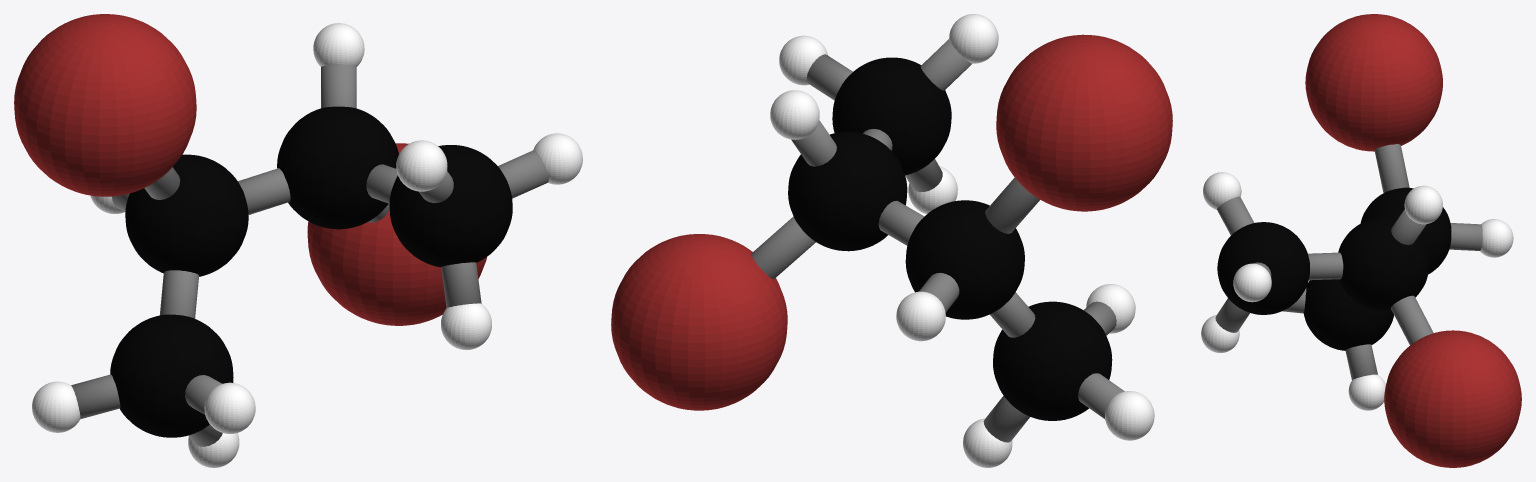
The model's file is DIBROMOBUTANO.obj.
3 views of the same model, side by side, from view 1: azimuth 30°, elevation 25°; view 2: azimuth 150°, elevation 25°; view 3: azimuth 270°, elevation 25° (orthographic). The views are drawn at different scales.
Parts seen in each view (by area): view 1: Carbon_ball_Sphere.001, Bromine_ball_Sphere.002, Hydrogen_ball_Sphere, Stick_Cylinder.010_Cylinder.010, Stick_Cylinder.004_Cylinder.004, Stick_Cylinder.001_Cylinder.001, Stick_Cylinder.012_Cylinder.012, Stick_Cylinder.005_Cylinder.005, Stick_Cylinder.002_Cylinder.002, Stick_Cylinder.003_Cylinder.003, Stick_Cylinder.007_Cylinder.007, Stick_Cylinder.009_Cylinder.009; view 2: Bromine_ball_Sphere.002, Carbon_ball_Sphere.001, Hydrogen_ball_Sphere, Stick_Cylinder.011_Cylinder.011, Stick_Cylinder.009_Cylinder.009, Stick_Cylinder_Cylinder, Stick_Cylinder.002_Cylinder.002, Stick_Cylinder.006_Cylinder.006, Stick_Cylinder.010_Cylinder.010, Stick_Cylinder.004_Cylinder.004, Stick_Cylinder.005_Cylinder.005, Stick_Cylinder.012_Cylinder.012 (+3 smaller); view 3: Bromine_ball_Sphere.002, Carbon_ball_Sphere.001, Hydrogen_ball_Sphere, Stick_Cylinder.009_Cylinder.009, Stick_Cylinder.011_Cylinder.011, Stick_Cylinder.003_Cylinder.003, Stick_Cylinder.008_Cylinder.008, Stick_Cylinder.006_Cylinder.006, Stick_Cylinder_Cylinder, Stick_Cylinder.001_Cylinder.001, Stick_Cylinder.012_Cylinder.012.
Part boxes in pixels (x1,y1,x2,y2): Carbon_ball_Sphere.001: (110,106,512,437); Bromine_ball_Sphere.002: (14,14,486,325); Hydrogen_ball_Sphere: (32,23,582,467); Stick_Cylinder.010_Cylinder.010: (238,168,290,214); Stick_Cylinder.004_Cylinder.004: (159,270,198,318); Stick_Cylinder.001_Cylinder.001: (441,262,481,307); Stick_Cylinder.012_Cylinder.012: (321,65,356,108); Stick_Cylinder.005_Cylinder.005: (71,374,120,419); Stick_Cylinder.002_Cylinder.002: (498,150,548,198); Stick_Cylinder.003_Cylinder.003: (366,164,397,203); Stick_Cylinder.007_Cylinder.007: (185,375,222,414); Stick_Cylinder.009_Cylinder.009: (144,167,180,199); Bromine_ball_Sphere.002: (611,34,1172,410); Carbon_ball_Sphere.001: (788,57,1112,420); Hydrogen_ball_Sphere: (770,14,1154,467); Stick_Cylinder.011_Cylinder.011: (751,216,815,279); Stick_Cylinder.009_Cylinder.009: (985,177,1039,233); Stick_Cylinder_Cylinder: (920,39,971,90); Stick_Cylinder.002_Cylinder.002: (806,54,852,100); Stick_Cylinder.006_Cylinder.006: (983,396,1029,442); Stick_Cylinder.010_Cylinder.010: (878,200,924,245); Stick_Cylinder.004_Cylinder.004: (990,292,1035,337); Stick_Cylinder.005_Cylinder.005: (1078,373,1124,419); Stick_Cylinder.012_Cylinder.012: (791,120,836,166); Bromine_ball_Sphere.002: (1305,14,1521,467); Carbon_ball_Sphere.001: (1217,187,1451,350); Hydrogen_ball_Sphere: (1201,172,1513,410); Stick_Cylinder.009_Cylinder.009: (1374,144,1409,193); Stick_Cylinder.011_Cylinder.011: (1391,295,1433,345); Stick_Cylinder.003_Cylinder.003: (1308,252,1343,280); Stick_Cylinder.008_Cylinder.008: (1449,223,1482,250); Stick_Cylinder.006_Cylinder.006: (1345,344,1377,379); Stick_Cylinder_Cylinder: (1217,196,1254,235); Stick_Cylinder.001_Cylinder.001: (1215,298,1249,332); Stick_Cylinder.012_Cylinder.012: (1391,209,1426,245).
Size of the model in its own units: 6.53 by 5.76 by 4.78.
